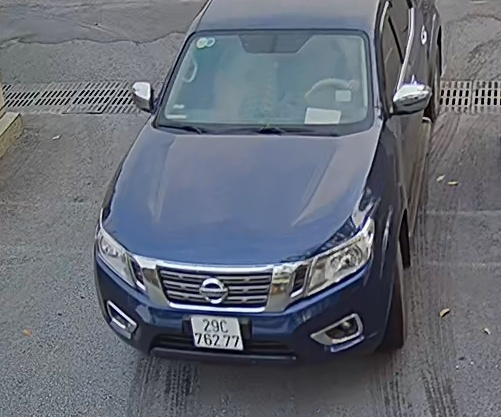vehicle plate: (188, 309, 244, 355)
